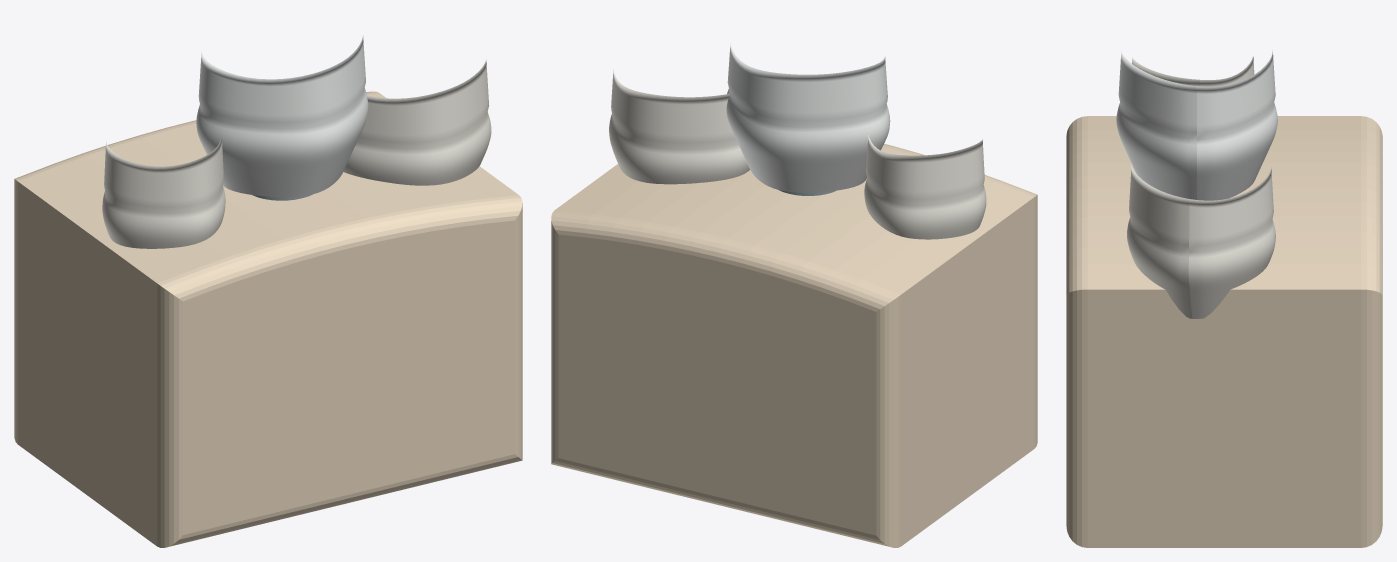
Rendered from single-dental-implant.glb.
3 renders of one model, left to right at view 1: azimuth 30°, elevation 25°; view 2: azimuth 150°, elevation 25°; view 3: azimuth 270°, elevation 25°, orthographic. The views are drawn at different scales.
Parts seen in each view (by area): view 1: Mesh_Alveolar_Housing, Mesh_Implant_Crown, Mesh_Adjacent_Second_Molar, Mesh_Adjacent_Premolar; view 2: Mesh_Alveolar_Housing, Mesh_Implant_Crown, Mesh_Adjacent_Second_Molar, Mesh_Adjacent_Premolar; view 3: Mesh_Alveolar_Housing, Mesh_Implant_Crown, Mesh_Adjacent_Second_Molar, Mesh_Adjacent_Premolar.
Boxes of the visible parts, x1=… form: Mesh_Alveolar_Housing: x1=14, y1=91, x2=522, y2=547; Mesh_Implant_Crown: x1=196, y1=35, x2=368, y2=197; Mesh_Adjacent_Second_Molar: x1=343, y1=59, x2=491, y2=185; Mesh_Adjacent_Premolar: x1=102, y1=134, x2=225, y2=248; Mesh_Alveolar_Housing: x1=551, y1=143, x2=1037, y2=547; Mesh_Implant_Crown: x1=726, y1=43, x2=890, y2=192; Mesh_Adjacent_Second_Molar: x1=609, y1=68, x2=749, y2=184; Mesh_Adjacent_Premolar: x1=864, y1=135, x2=986, y2=239; Mesh_Alveolar_Housing: x1=1066, y1=116, x2=1382, y2=547; Mesh_Implant_Crown: x1=1116, y1=50, x2=1277, y2=200; Mesh_Adjacent_Second_Molar: x1=1127, y1=165, x2=1275, y2=318; Mesh_Adjacent_Premolar: x1=1132, y1=56, x2=1254, y2=86.
Bounding box in the file's own units: 5.08 × 5.32 × 3.7.
